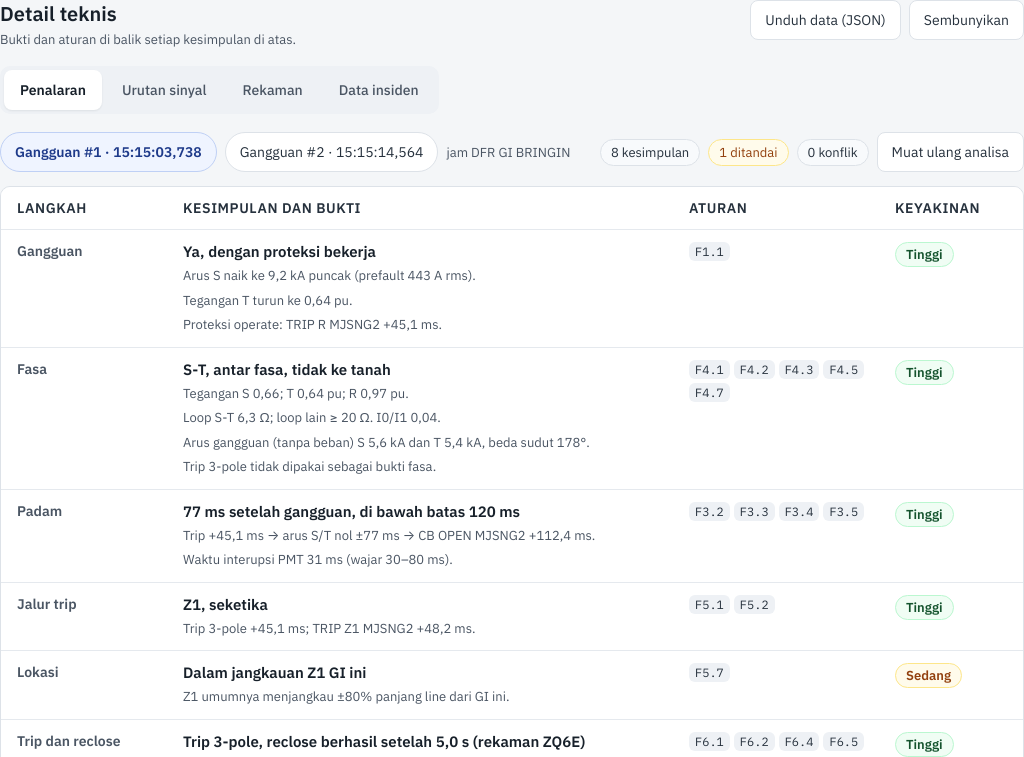
Test: TechnicalDetails — Urutan sinyal › reads the far end's own channels
Click the button "Urutan sinyal". click: (164, 90)
box: [106,70,222,110]
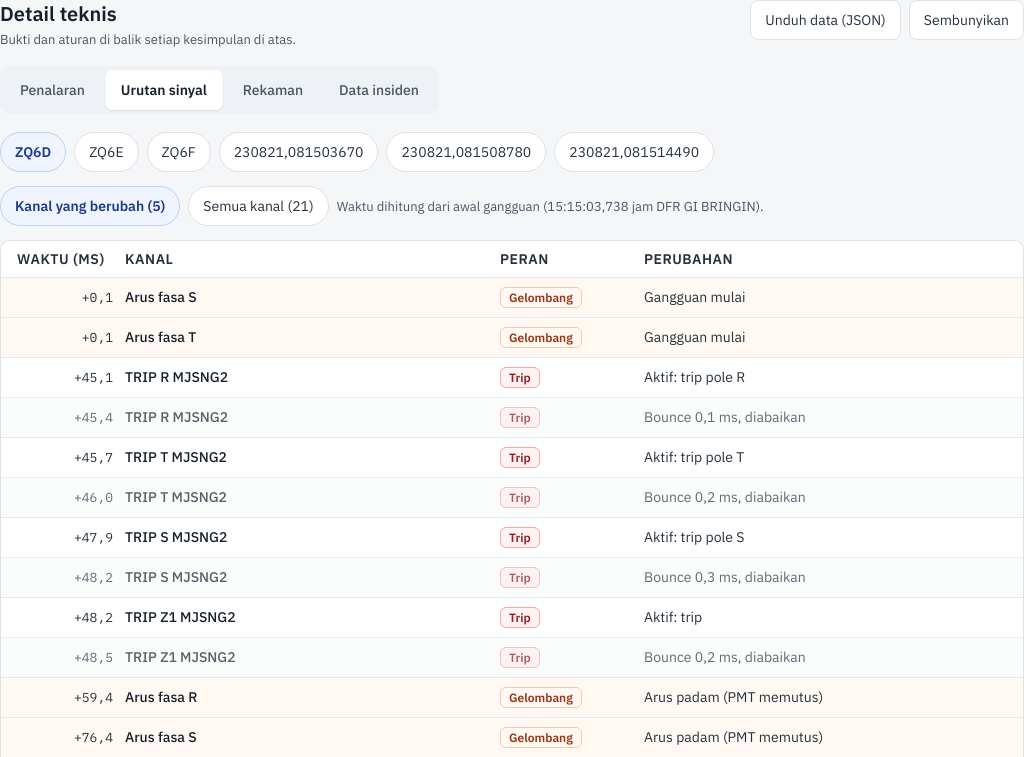
Click the button "230821,081503670". click: (298, 152)
box: [219,132,378,172]
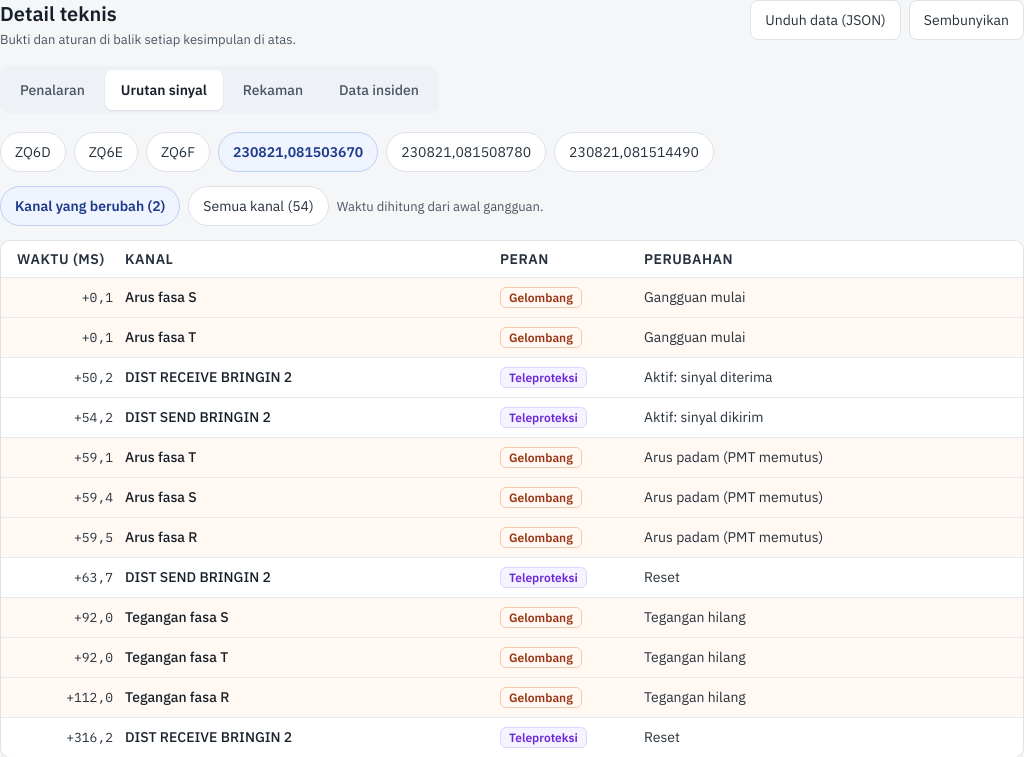
Now the text "DIST RECEIVE BRINGIN 2" next to "+50,2" is shown, box [125,368,292,386]
Now the text "Aktif: sinyal dikirim" is shown, box [644,408,764,426]
